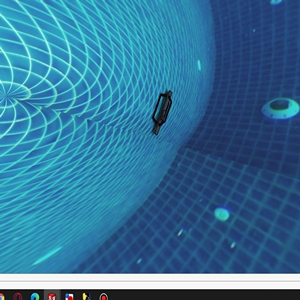submarine: (153, 92, 175, 129)
